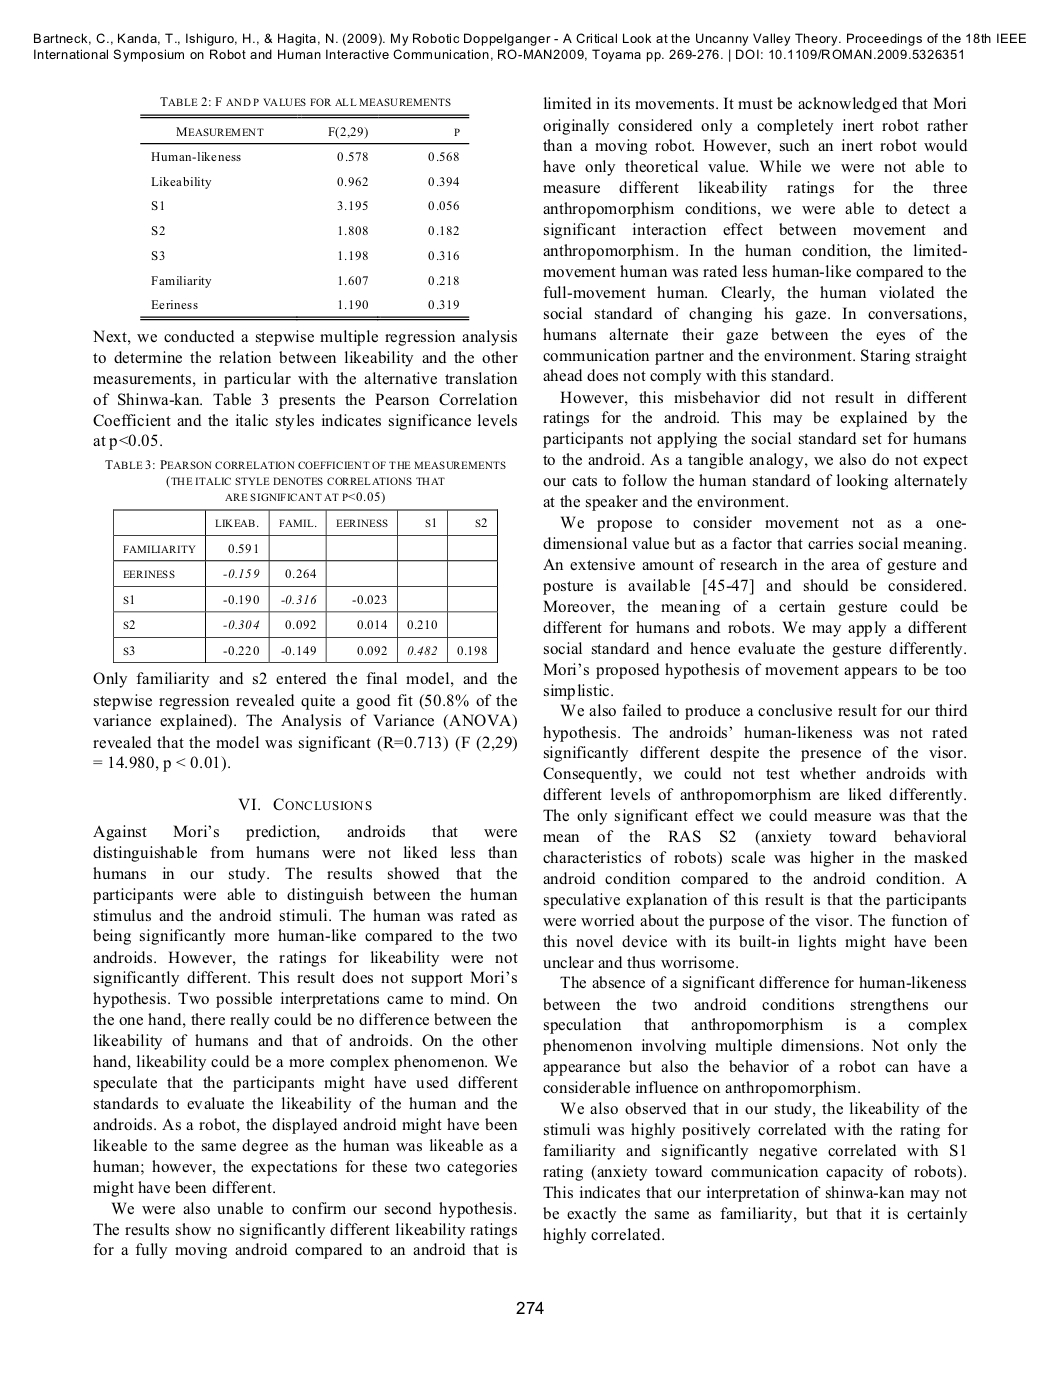Table: (140, 114, 469, 320), (113, 508, 497, 663)
formula: (93, 754, 228, 772), (93, 432, 160, 450)
